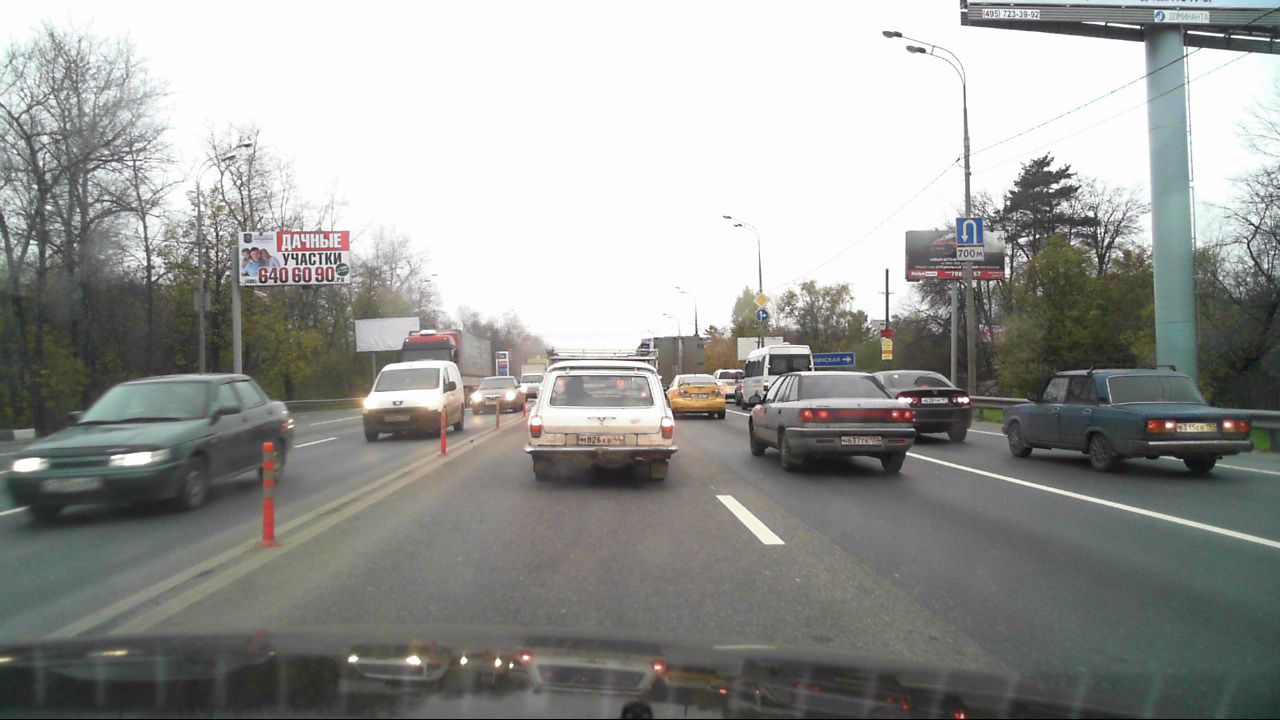U-turn: (957, 218, 983, 244)
